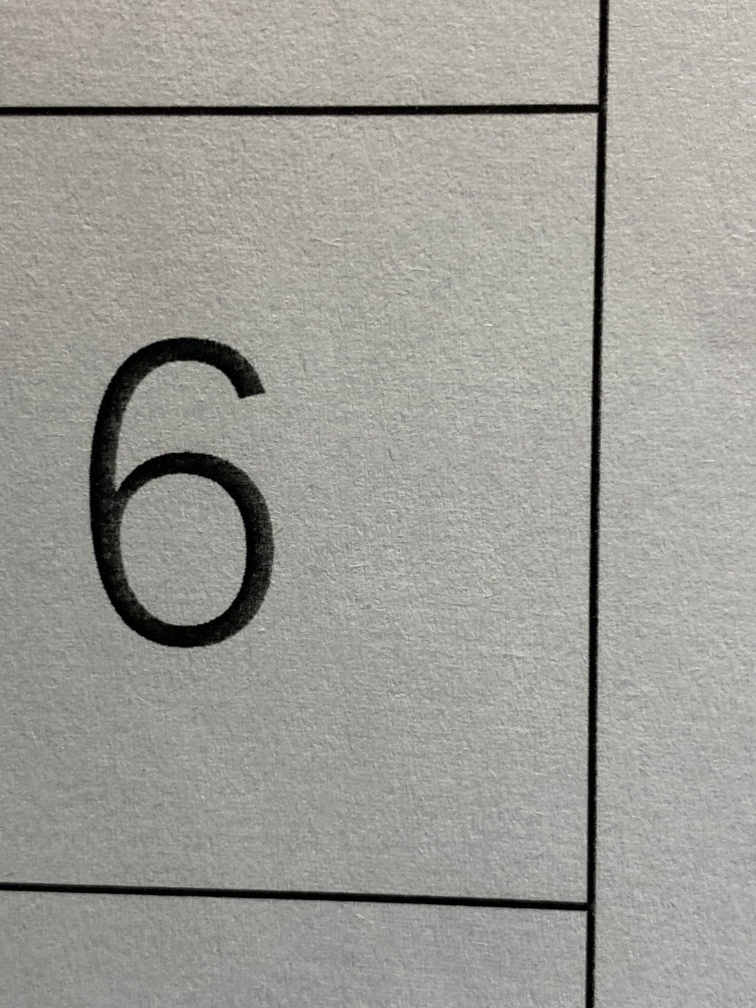six: (23, 285, 340, 690)
